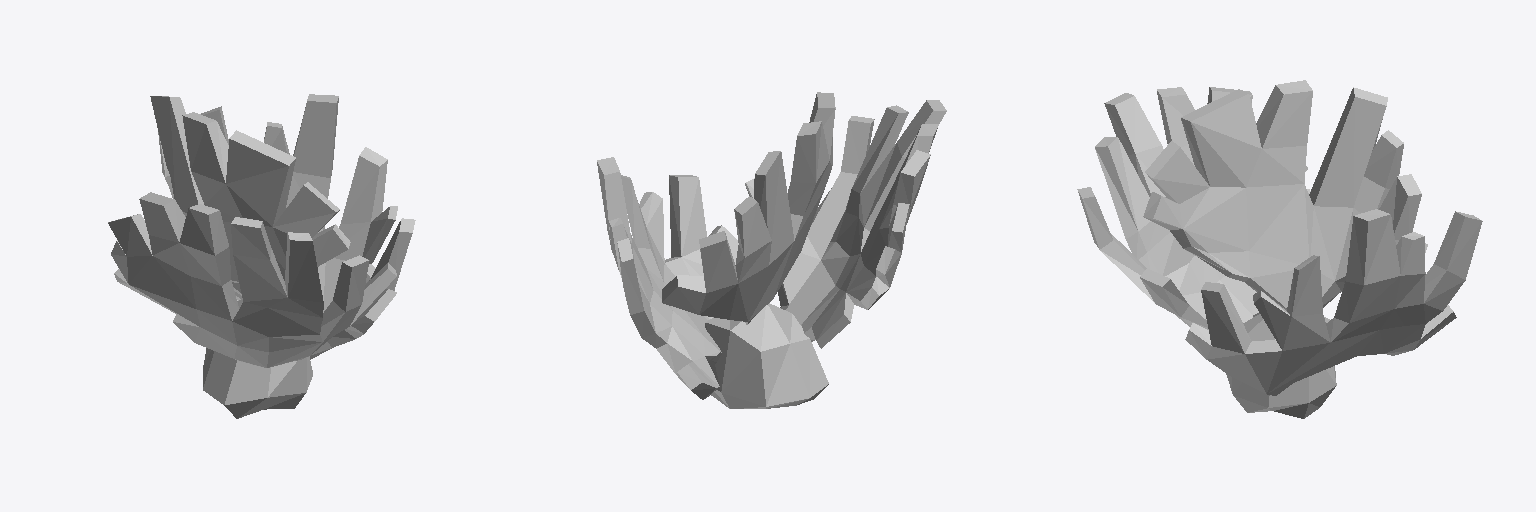
Rendered from Elkhorn_02_LOD3.obj.
3 views of the same model, side by side, from view 1: azimuth 30°, elevation 25°; view 2: azimuth 150°, elevation 25°; view 3: azimuth 270°, elevation 25° (orthographic).
Parts seen in each view (by area): view 1: Elkhorn_02_LOD3_Cube.555; view 2: Elkhorn_02_LOD3_Cube.555; view 3: Elkhorn_02_LOD3_Cube.555.
Boxes of the visible parts, x1,y1,x2,y2 form: Elkhorn_02_LOD3_Cube.555: [108, 94, 415, 418]; Elkhorn_02_LOD3_Cube.555: [597, 92, 946, 408]; Elkhorn_02_LOD3_Cube.555: [1077, 80, 1482, 418].
Bounding box in the file's own units: 8.4 × 8.28 × 10.41.